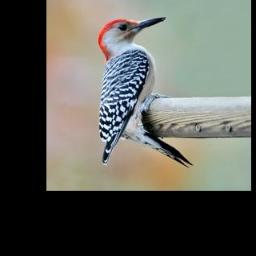Woodpecker: (88, 10, 200, 179)
